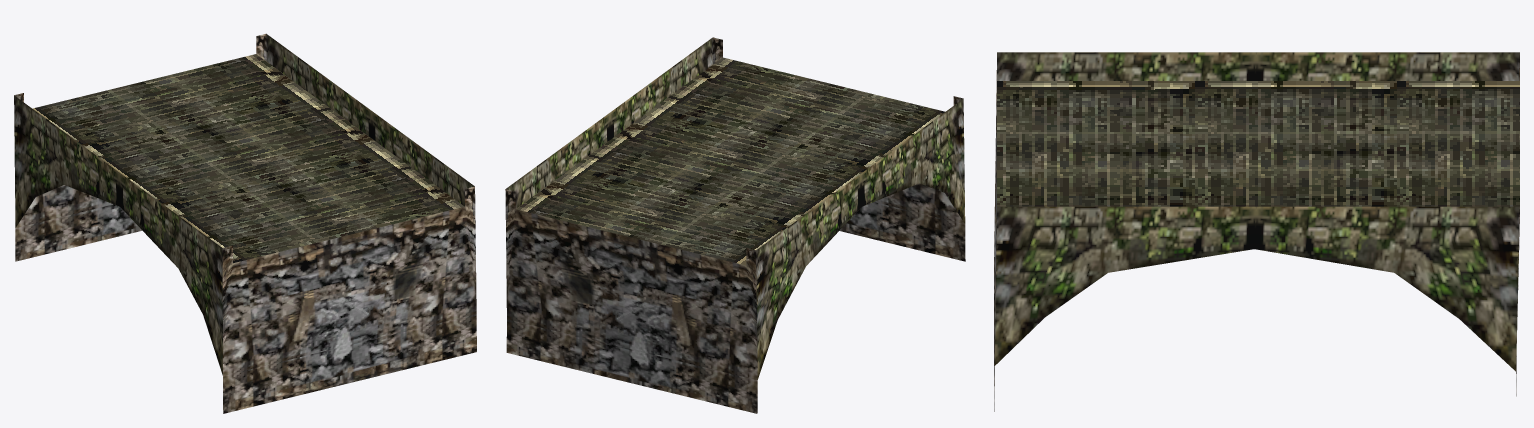
File: Civilian - Civilian Building - Fortress Wall Large Arch - Damaged - CMWalAkml3_D.glb
3 views of the same model, side by side, from view 1: azimuth 30°, elevation 25°; view 2: azimuth 150°, elevation 25°; view 3: azimuth 270°, elevation 25° (orthographic). The views are drawn at different scales.
Parts seen in each view (by area): view 1: CMWALAKML3_D; view 2: CMWALAKML3_D; view 3: CMWALAKML3_D.
Boxes of the visible parts, box(x1,y1,x2,y2) form: CMWALAKML3_D: box(14, 33, 476, 413); CMWALAKML3_D: box(505, 37, 965, 413); CMWALAKML3_D: box(994, 52, 1519, 411).
Bounding box in the file's own units: 59.02 × 43.64 × 84.55.
Materials: 5 (5 with a texture image).
